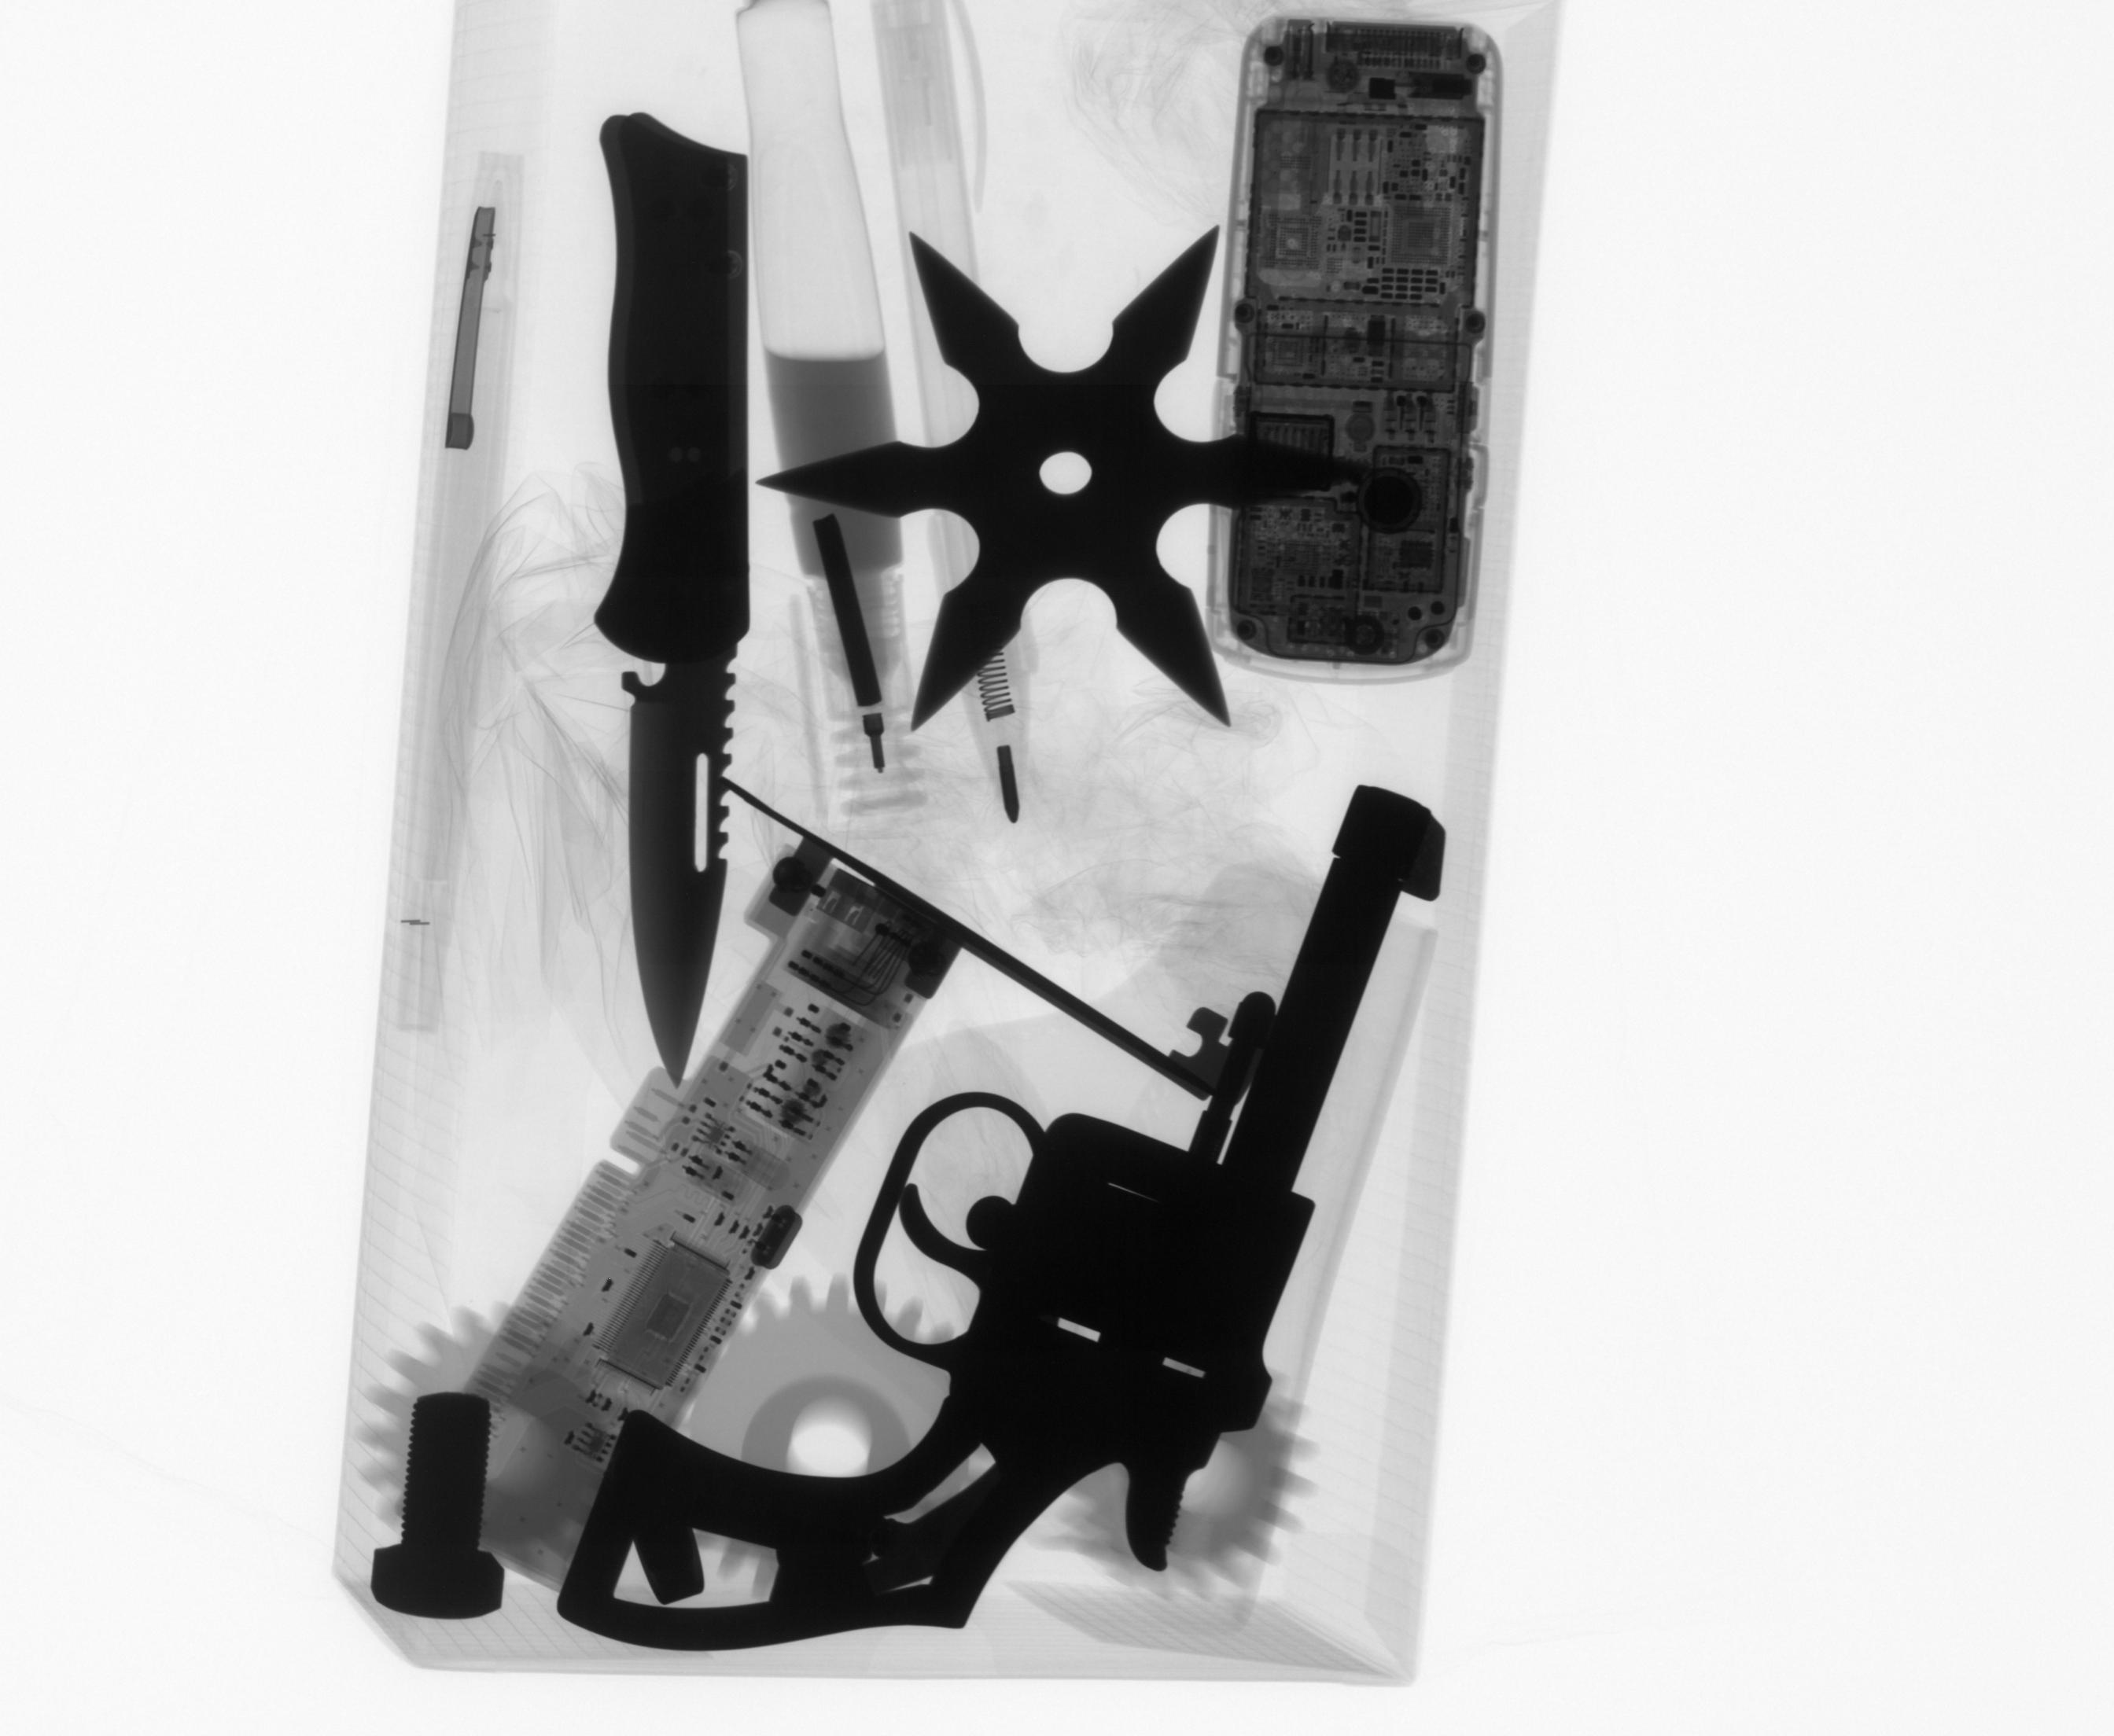Handgun: (547, 775, 1455, 1661)
Knife: (583, 101, 764, 1100)
Shuriken: (751, 219, 1378, 741)
